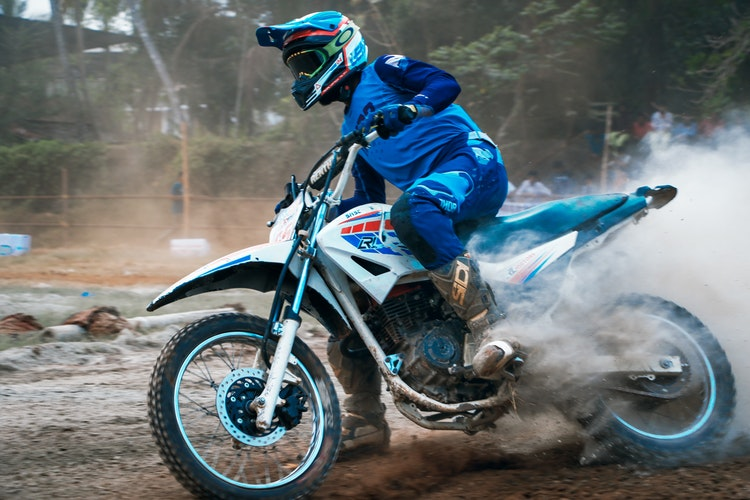helmet: (259, 7, 382, 93)
